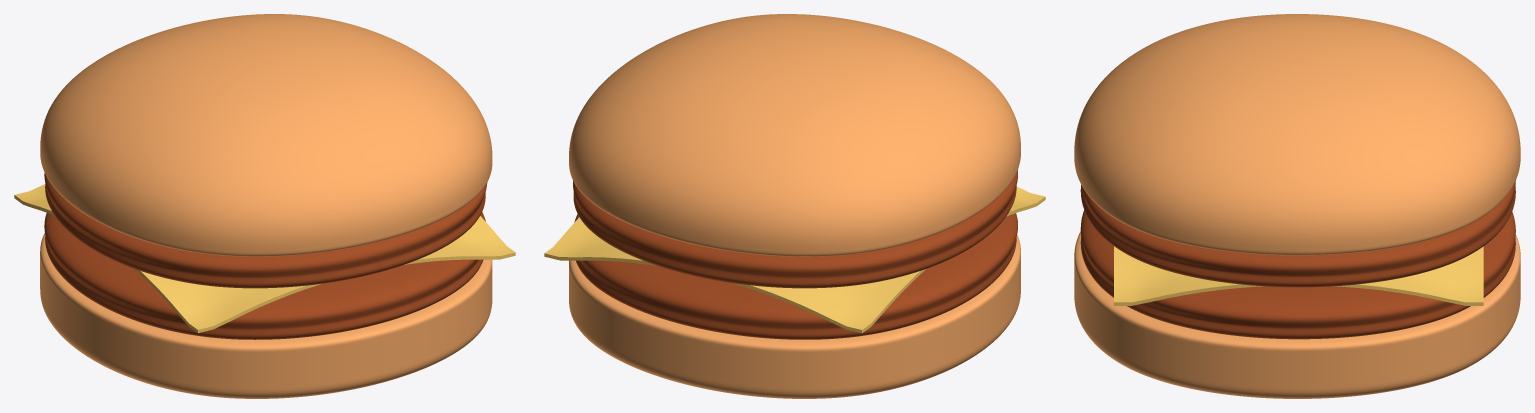
The model's file is hamburger.glb.
3 views of the same model, side by side, from view 1: azimuth 30°, elevation 25°; view 2: azimuth 150°, elevation 25°; view 3: azimuth 270°, elevation 25° (orthographic).
Parts seen in each view (by area): view 1: top burg.001, bottom burg, steak, steak.001, Plane; view 2: top burg.001, bottom burg, steak, steak.001, Plane; view 3: top burg.001, bottom burg, steak, steak.001, Plane.
Part boxes in pixels (box(x1,y1,x2,y2)): top burg.001: box(40, 14, 492, 256); bottom burg: box(40, 233, 492, 398); steak: box(44, 212, 485, 339); steak.001: box(44, 173, 487, 288); Plane: box(14, 184, 515, 333); top burg.001: box(569, 14, 1020, 256); bottom burg: box(569, 234, 1020, 398); steak: box(574, 213, 1017, 339); steak.001: box(573, 170, 1017, 288); Plane: box(544, 186, 1045, 333); top burg.001: box(1074, 14, 1520, 255); bottom burg: box(1074, 231, 1520, 398); steak: box(1080, 210, 1515, 339); steak.001: box(1080, 180, 1515, 287); Plane: box(1114, 246, 1483, 305).
Bounding box in the file's own units: 5.95 × 4.02 × 5.95.
